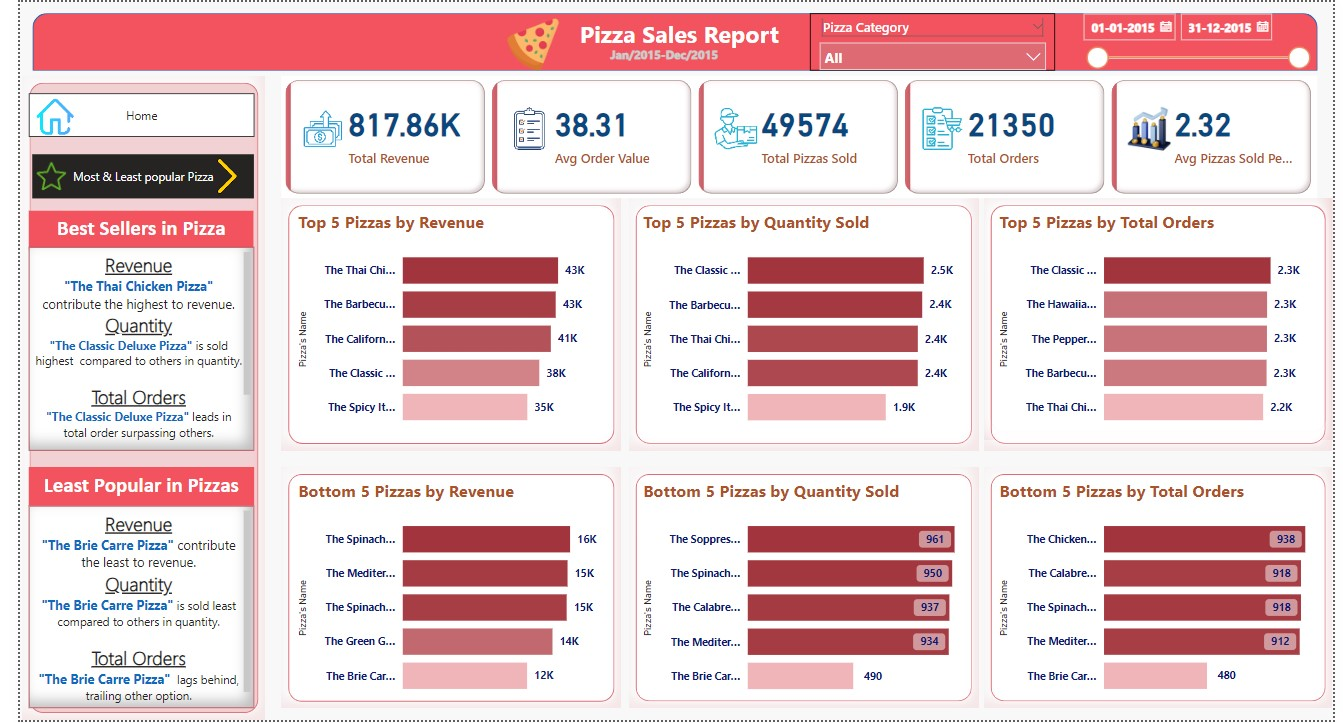

The page's visual inventory and layout, read from the dashboard file:
{"tool":"powerbi","page":{"name":"Most & Least popular Pizza","canvas":[1500,820],"ordinal":1},"visuals":[{"type":"shape","box":[2.5,83.8,277.5,736.2],"z":0},{"type":"cardVisual","fields":{"Data":["pizza_sales.Total Revenue","pizza_sales.Avg Order Value","pizza_sales.Total Pizzas Sold","pizza_sales.Total Orders","pizza_sales.Avg Pizzas Sold Per Order"]},"box":[298.8,83.8,1183.8,140],"z":1000},{"type":"textbox","box":[10,238.6,257.1,44.3],"z":2000},{"type":"shape","box":[14.3,12.9,1468.6,65.7],"z":3000},{"type":"textbox","box":[624.3,12.9,258.6,57.1],"z":4000},{"type":"textbox","box":[621.4,45.7,230,32.9],"z":5000},{"type":"image","box":[537.1,12.9,98.6,71.4],"z":6000},{"type":"shape","box":[298.8,223.8,388.8,288.8],"z":7000},{"type":"textbox","box":[10,280,257.5,232.5],"z":8000},{"type":"textbox","box":[10,531.2,257.5,45],"z":9000},{"type":"textbox","box":[10,576.2,257.5,231.2],"z":10000},{"type":"slicer","fields":{"Values":["pizza_sales.pizza_category"]},"box":[902.9,12.9,280,65.7],"z":11000},{"type":"slicer","fields":{"Values":["pizza_sales.order_date"]},"box":[1202.9,2.9,280,91.4],"z":12000},{"type":"shape","box":[1101.4,224.3,399,275.7],"z":13000},{"type":"shape","box":[695.7,224.3,400,288.6],"z":14000},{"type":"shape","box":[298.8,531.2,388.8,276.2],"z":15000},{"type":"shape","box":[695.7,531.4,400,275.7],"z":16000},{"type":"shape","box":[1101.4,224.3,398.6,288.6],"z":17000},{"type":"shape","box":[1101.4,531.4,398.6,275.7],"z":18000},{"type":"barChart","title":"Top 5  Pizzas by Revenue","fields":{"Category":["pizza_sales.pizza_name"],"Y":["pizza_sales.Total Revenue"]},"box":[312.5,238.8,375,261.2],"z":19000},{"type":"barChart","title":"Bottom 5  Pizzas by Revenue","fields":{"Category":["pizza_sales.pizza_name"],"Y":["pizza_sales.Total Revenue"]},"box":[312.5,546.2,375,261.2],"z":20000},{"type":"barChart","title":"Top 5  Pizzas by Quantity Sold","fields":{"Category":["pizza_sales.pizza_name"],"Y":["pizza_sales.Total Pizzas Sold"]},"box":[707.1,238.6,375.7,261.4],"z":21000},{"type":"barChart","title":"Bottom 5  Pizzas by Quantity Sold","fields":{"Category":["pizza_sales.pizza_name"],"Y":["pizza_sales.Total Pizzas Sold"]},"box":[707.1,545.7,375.7,261.4],"z":22000},{"type":"barChart","title":"Top 5  Pizzas by Total Orders","fields":{"Category":["pizza_sales.pizza_name"],"Y":["pizza_sales.Total Orders"]},"box":[1113.8,238.8,375,261.2],"z":23000},{"type":"barChart","title":"Bottom 5  Pizzas by Total Orders","fields":{"Category":["pizza_sales.pizza_name"],"Y":["pizza_sales.Total Orders"]},"box":[1113.8,546.2,375,261.2],"z":24000},{"type":"pageNavigator","box":[10,103.8,258.8,50],"z":25000},{"type":"pageNavigator","box":[13.8,173.8,253.8,50],"z":26000},{"type":"image","box":[206.2,173.8,62.5,50],"z":27000},{"type":"image","box":[13.8,103.8,52.5,53.8],"z":28000},{"type":"image","box":[13.8,173.8,43.8,50],"z":29000}]}

Visuals, with their boxes in screenshot pixels (x1, y1, x2, y2), scaled from the page's 1500x820 canvas onto the 1343x723 screenshot:
shape: detection(2, 74, 251, 722)
cardVisual - pizza_sales.Total Revenue x pizza_sales.Avg Order Value: detection(268, 74, 1327, 197)
textbox: detection(9, 210, 239, 249)
shape: detection(13, 11, 1328, 69)
textbox: detection(559, 11, 790, 62)
textbox: detection(556, 40, 762, 69)
image: detection(481, 11, 569, 74)
shape: detection(268, 197, 616, 452)
textbox: detection(9, 247, 240, 452)
textbox: detection(9, 468, 240, 508)
textbox: detection(9, 508, 240, 712)
slicer - pizza_sales.pizza_category: detection(808, 11, 1059, 69)
slicer - pizza_sales.order_date: detection(1077, 3, 1328, 83)
shape: detection(986, 198, 1342, 441)
shape: detection(623, 198, 981, 452)
shape: detection(268, 468, 616, 712)
shape: detection(623, 469, 981, 712)
shape: detection(986, 198, 1342, 452)
shape: detection(986, 469, 1342, 712)
"Top 5  Pizzas by Revenue" barChart: detection(280, 211, 616, 441)
"Bottom 5  Pizzas by Revenue" barChart: detection(280, 482, 616, 712)
"Top 5  Pizzas by Quantity Sold" barChart: detection(633, 210, 969, 441)
"Bottom 5  Pizzas by Quantity Sold" barChart: detection(633, 481, 969, 712)
"Top 5  Pizzas by Total Orders" barChart: detection(997, 211, 1333, 441)
"Bottom 5  Pizzas by Total Orders" barChart: detection(997, 482, 1333, 712)
pageNavigator: detection(9, 92, 241, 136)
pageNavigator: detection(12, 153, 240, 197)
image: detection(185, 153, 241, 197)
image: detection(12, 92, 59, 139)
image: detection(12, 153, 52, 197)
